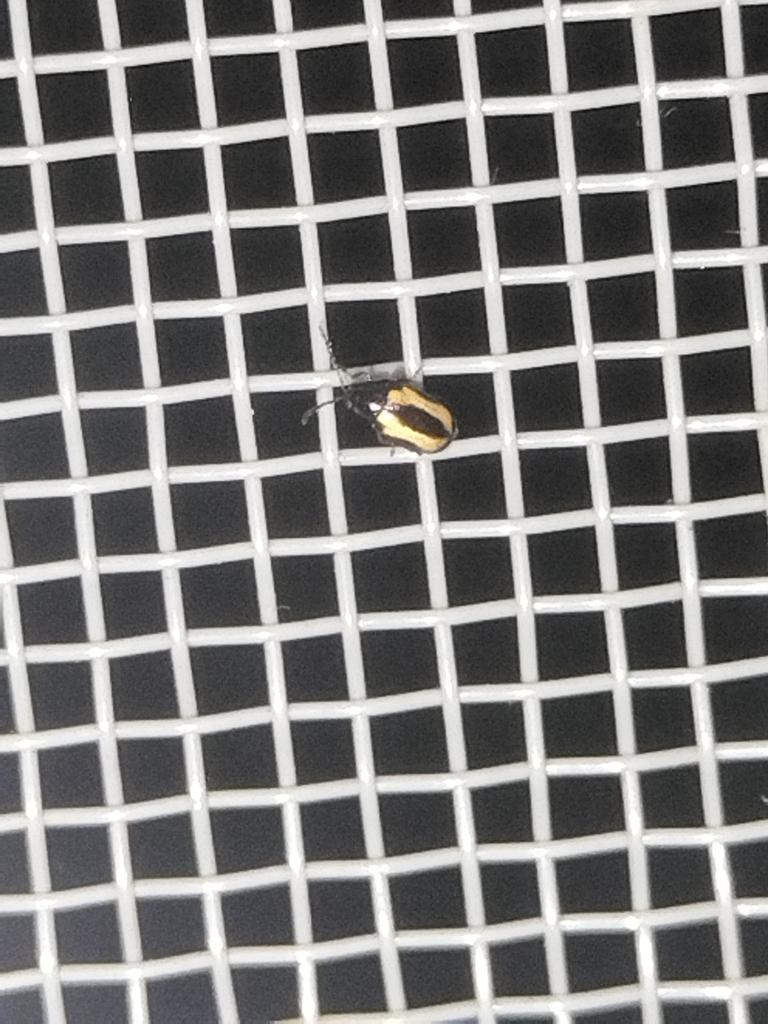flea_beetle: (275, 298, 486, 503)
